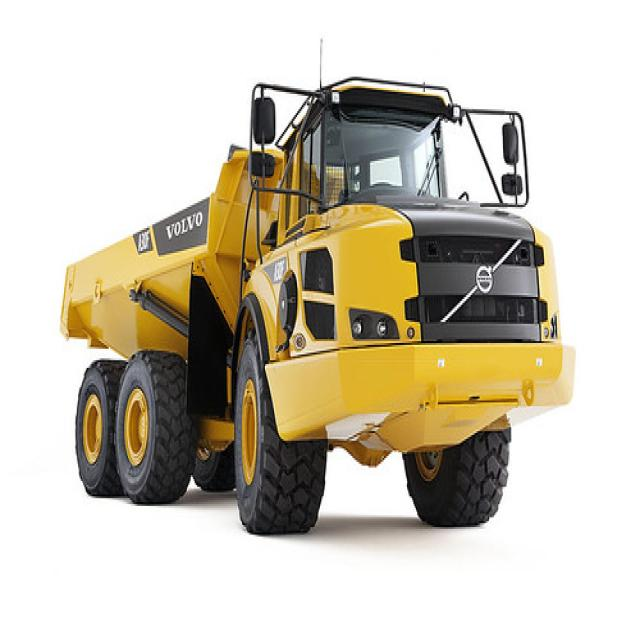dump_truck: (55, 67, 567, 539)
